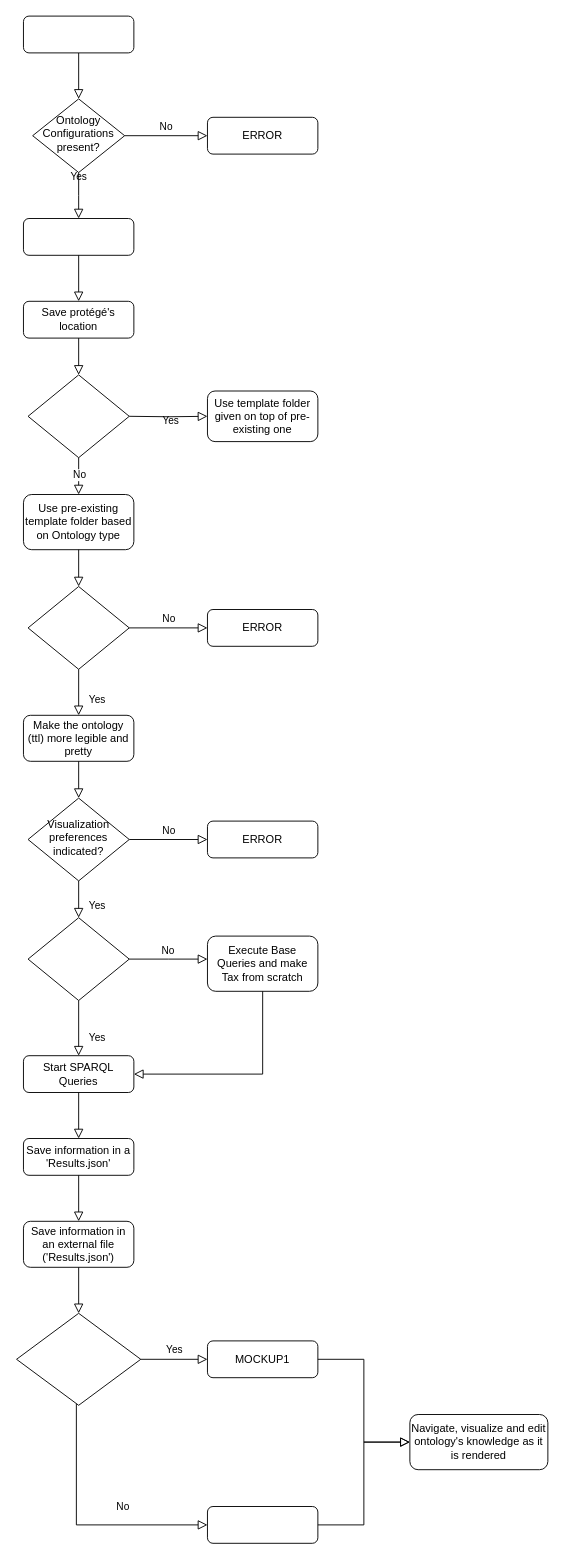
Image size: 564x1559. Some labels were removed from this diagram. Here are the shapes that lost their labels. From the top down, the centre of each, then its label:
the point at 78,34: User fills in DSL
the point at 78,236: Go fetch Ontology
the point at 78,416: Template folder given?
the point at 78,627: Ontology Prefix Indicated?
the point at 78,958: Taxonomy (Tax) file given?
the point at 78,1358: Is user experienced and did he indicate a taxonomy file?
the point at 262,1524: MOCKUP2
